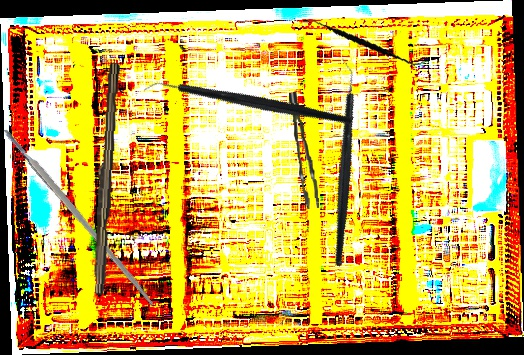Chopper: (141, 17, 355, 194), (262, 56, 421, 268)
Scalpel Handle: (2, 126, 157, 308), (89, 62, 121, 296)
Spatula Surgical: (302, 0, 426, 84)
Tissue Forceps: (288, 91, 320, 210)
